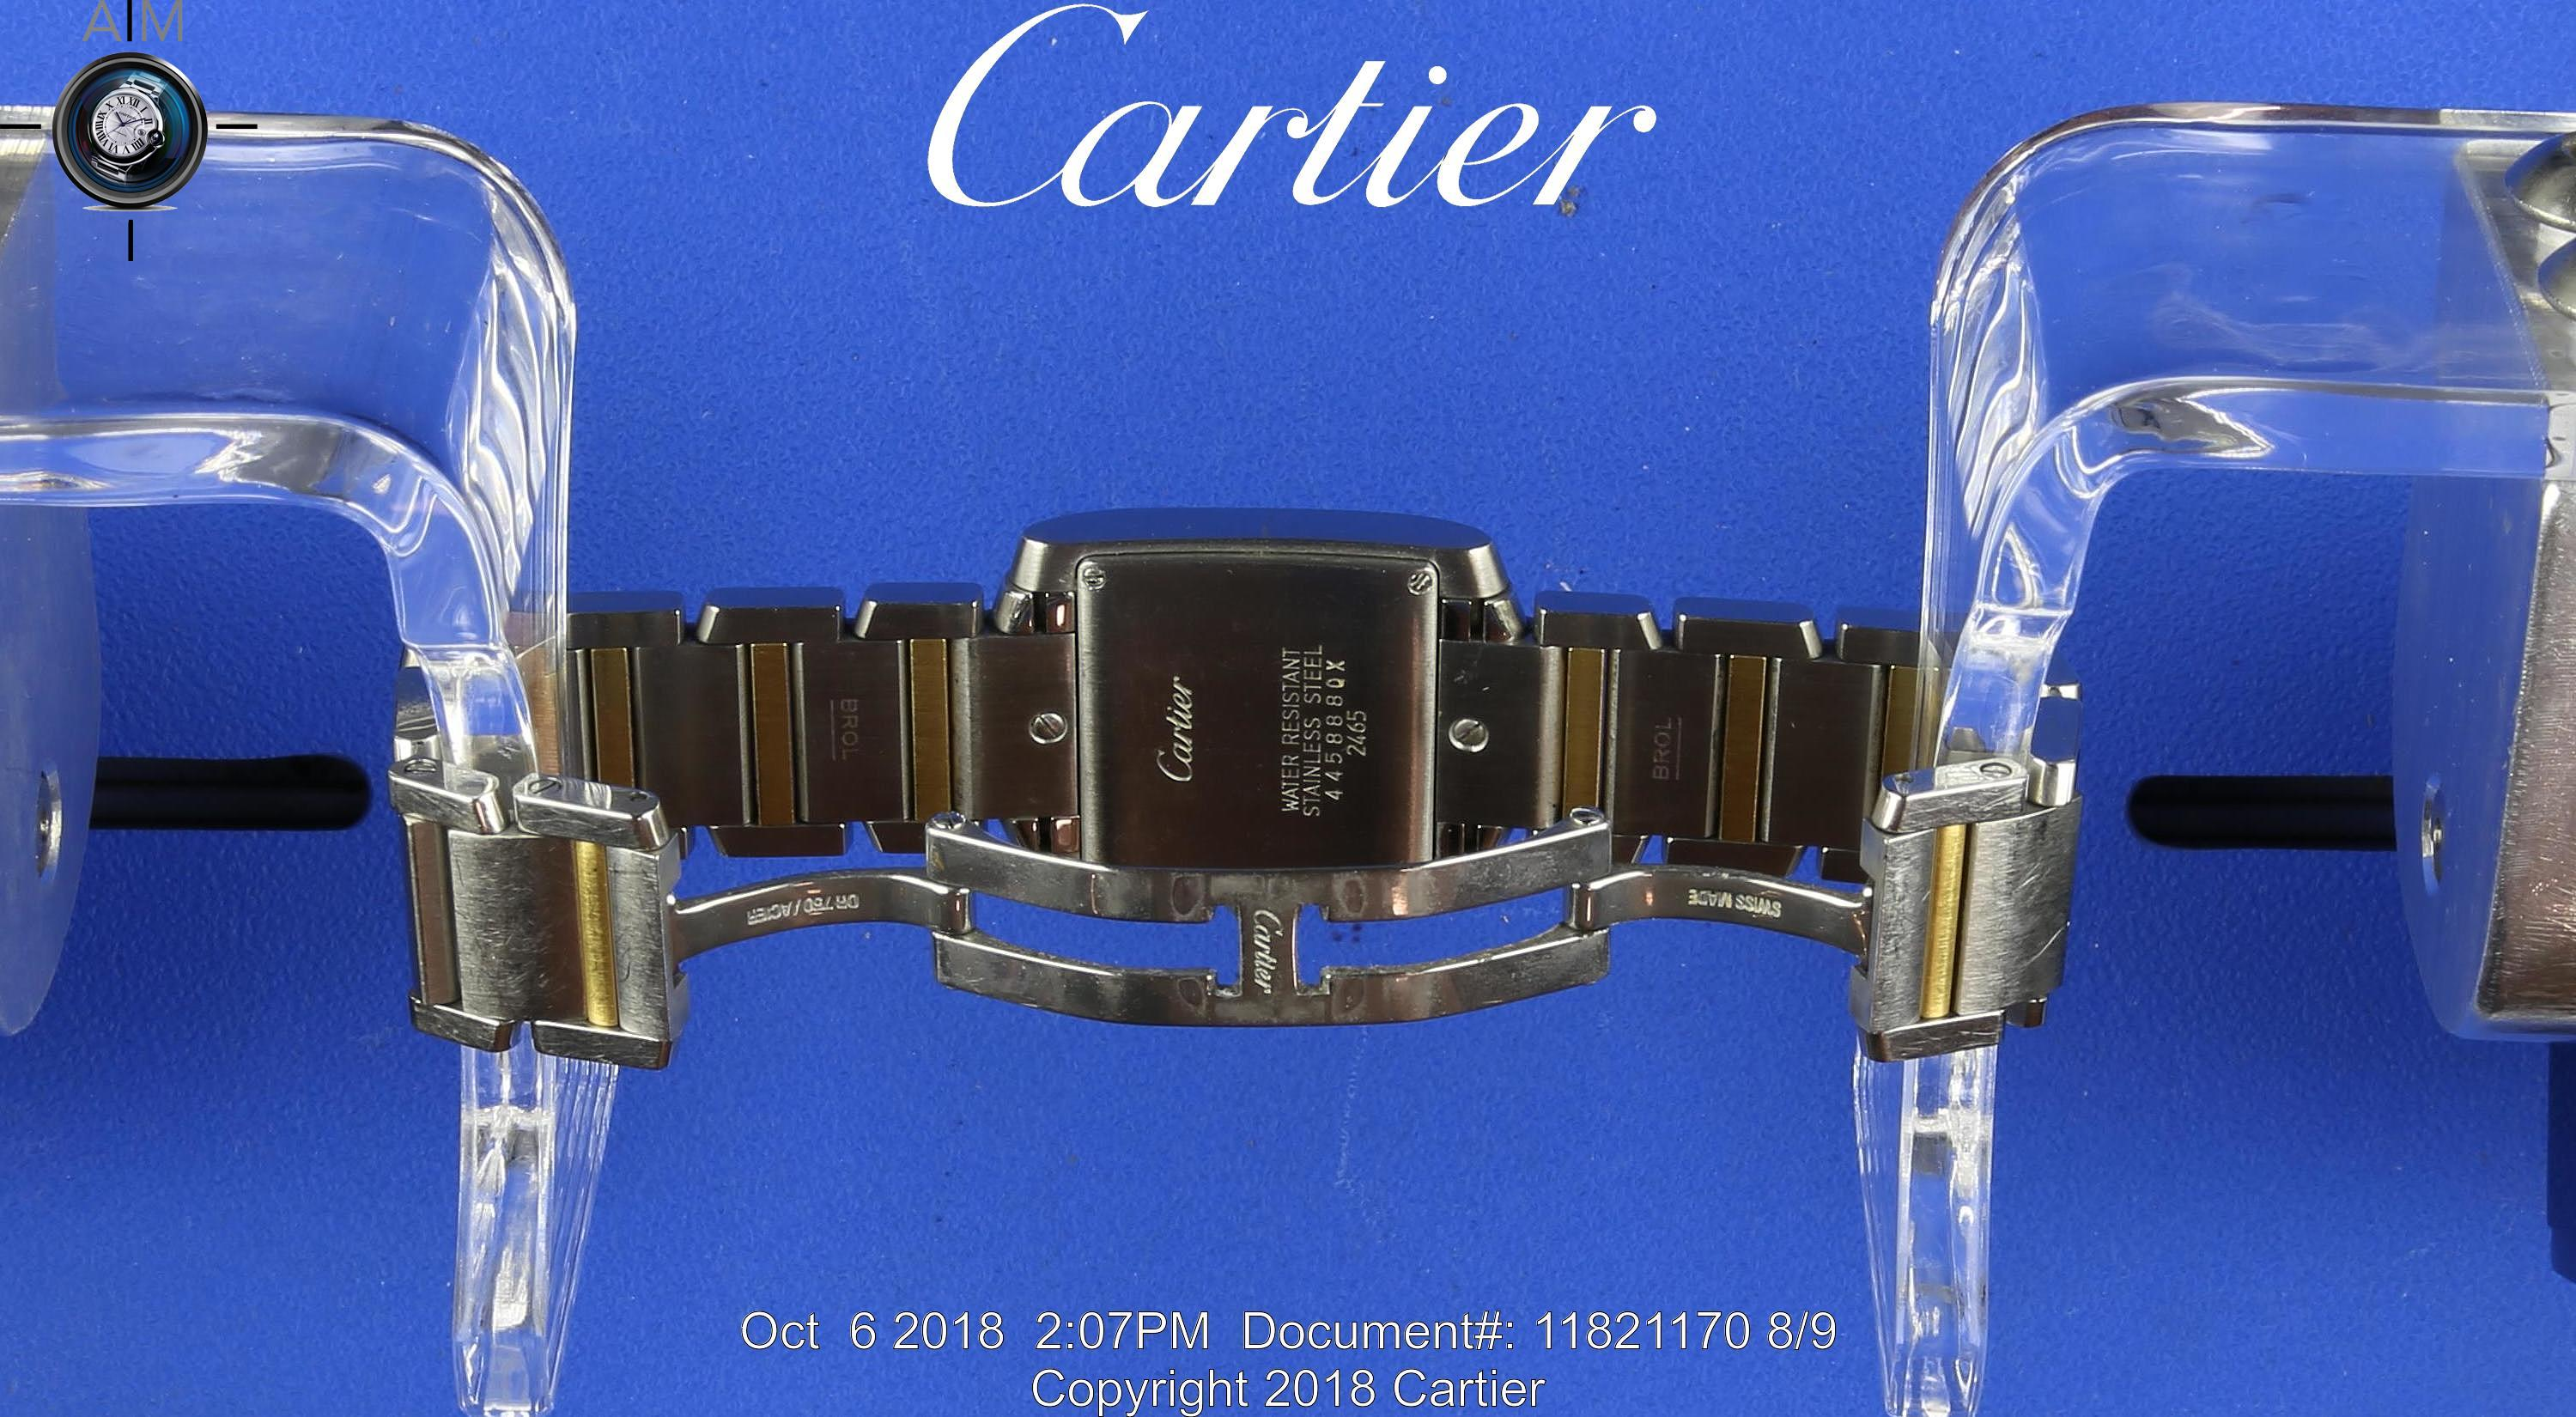watchback: (1078, 553, 1435, 871)
